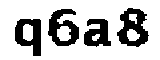6: (46, 6, 80, 51)
8: (117, 7, 151, 51)
a: (83, 17, 112, 50)
q: (12, 16, 44, 59)
